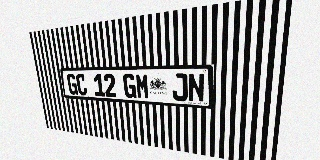1: (93, 74, 105, 97)
2: (103, 74, 116, 97)
C: (75, 74, 88, 95)
G: (123, 73, 137, 98), (66, 74, 78, 95)
J: (172, 73, 188, 101)
M: (135, 73, 150, 99)
N: (188, 73, 205, 102)
